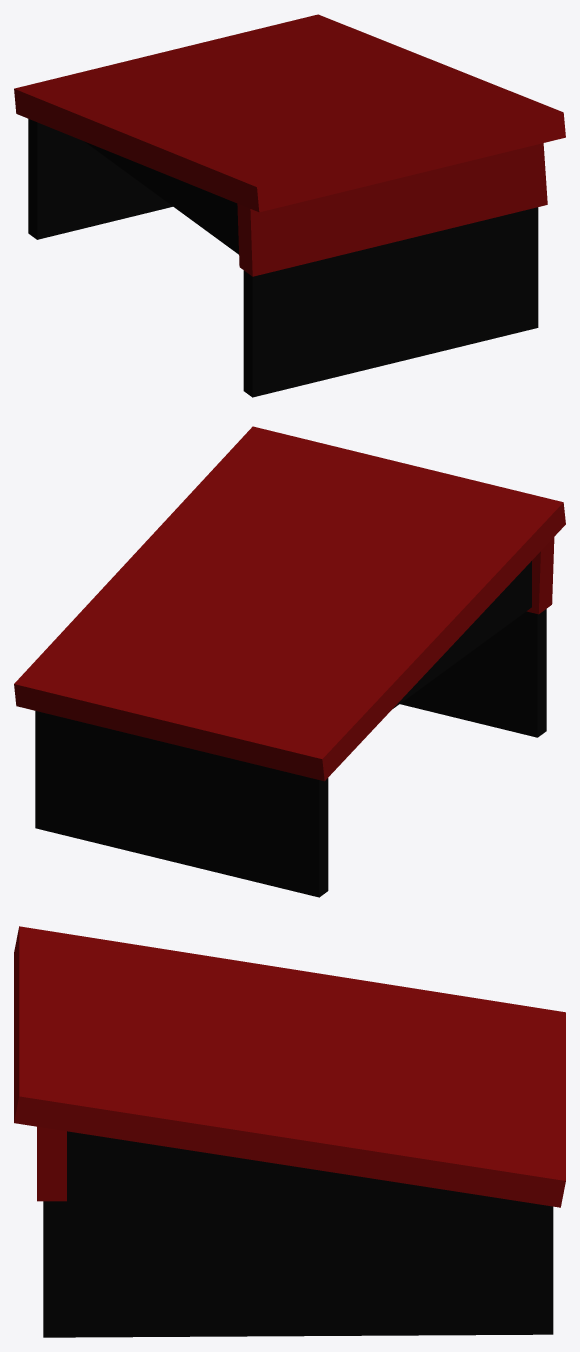
File: House5.FBX
3 renders of one model, top to bottom at view 1: azimuth 30°, elevation 25°; view 2: azimuth 150°, elevation 25°; view 3: azimuth 270°, elevation 25°, orthographic. The views are drawn at different scales.
Parts seen in each view (by area): view 1: House5; view 2: House5; view 3: House5.
Boxes of the visible parts, x1,y1,x2,y2 form: House5: [14, 14, 565, 397]; House5: [14, 426, 565, 897]; House5: [14, 926, 565, 1337].
Size of the model in its own units: 949 by 1291 by 644.
